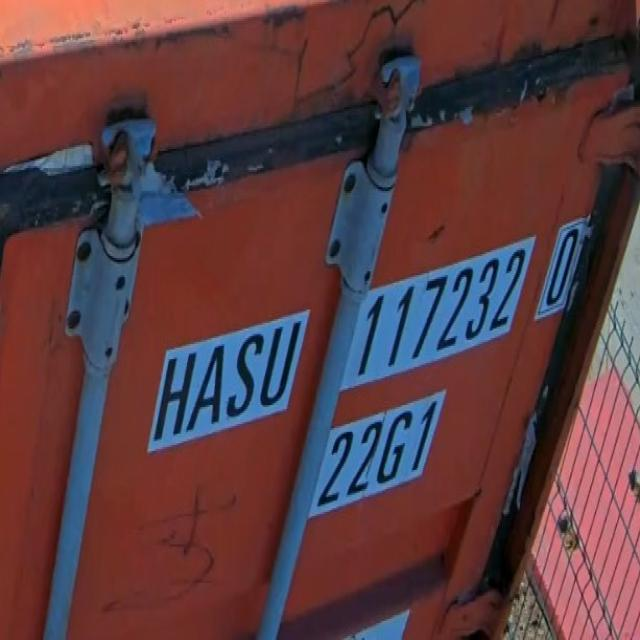dv: (537, 209, 584, 334)
owner: (150, 309, 304, 457)
serial: (339, 238, 525, 386)
size: (311, 393, 445, 516)
